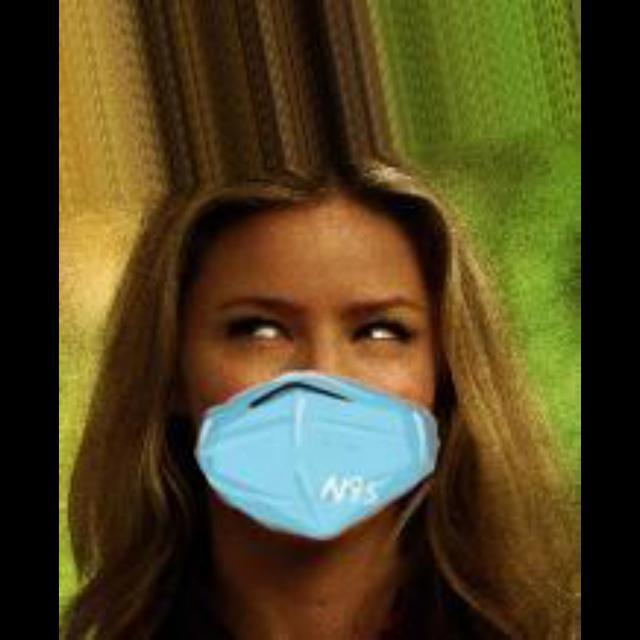suspicion: (175, 205, 489, 563)
